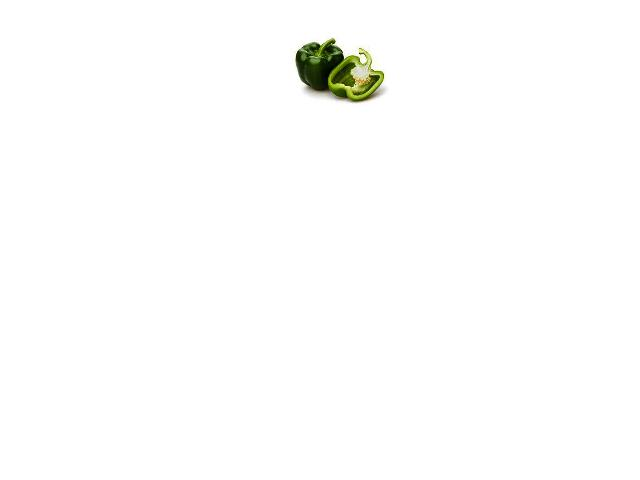bell_pepper: (325, 45, 386, 99)
